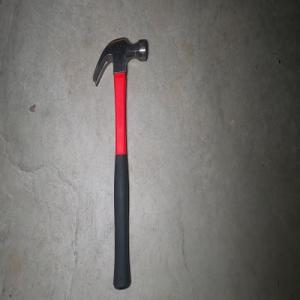Hammer: (91, 36, 147, 291)
